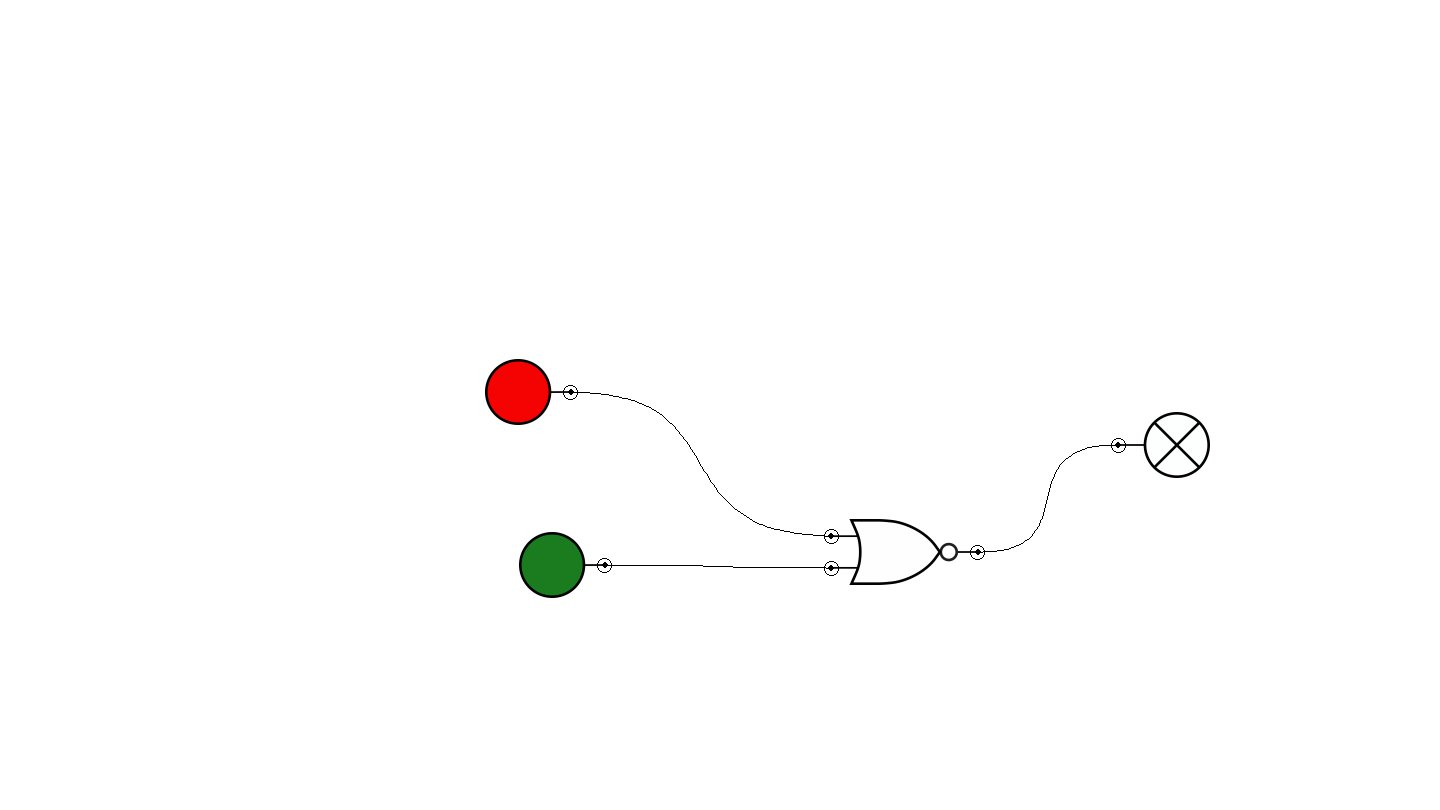bulb: (1111, 412, 1210, 478)
nor: (824, 519, 985, 585)
switch_False: (485, 359, 578, 425)
switch_True: (519, 532, 612, 598)
